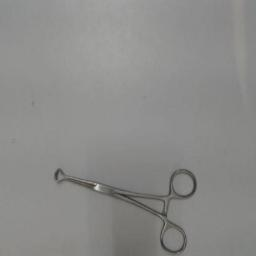Babcock Tissue Forceps: (52, 164, 198, 254)
